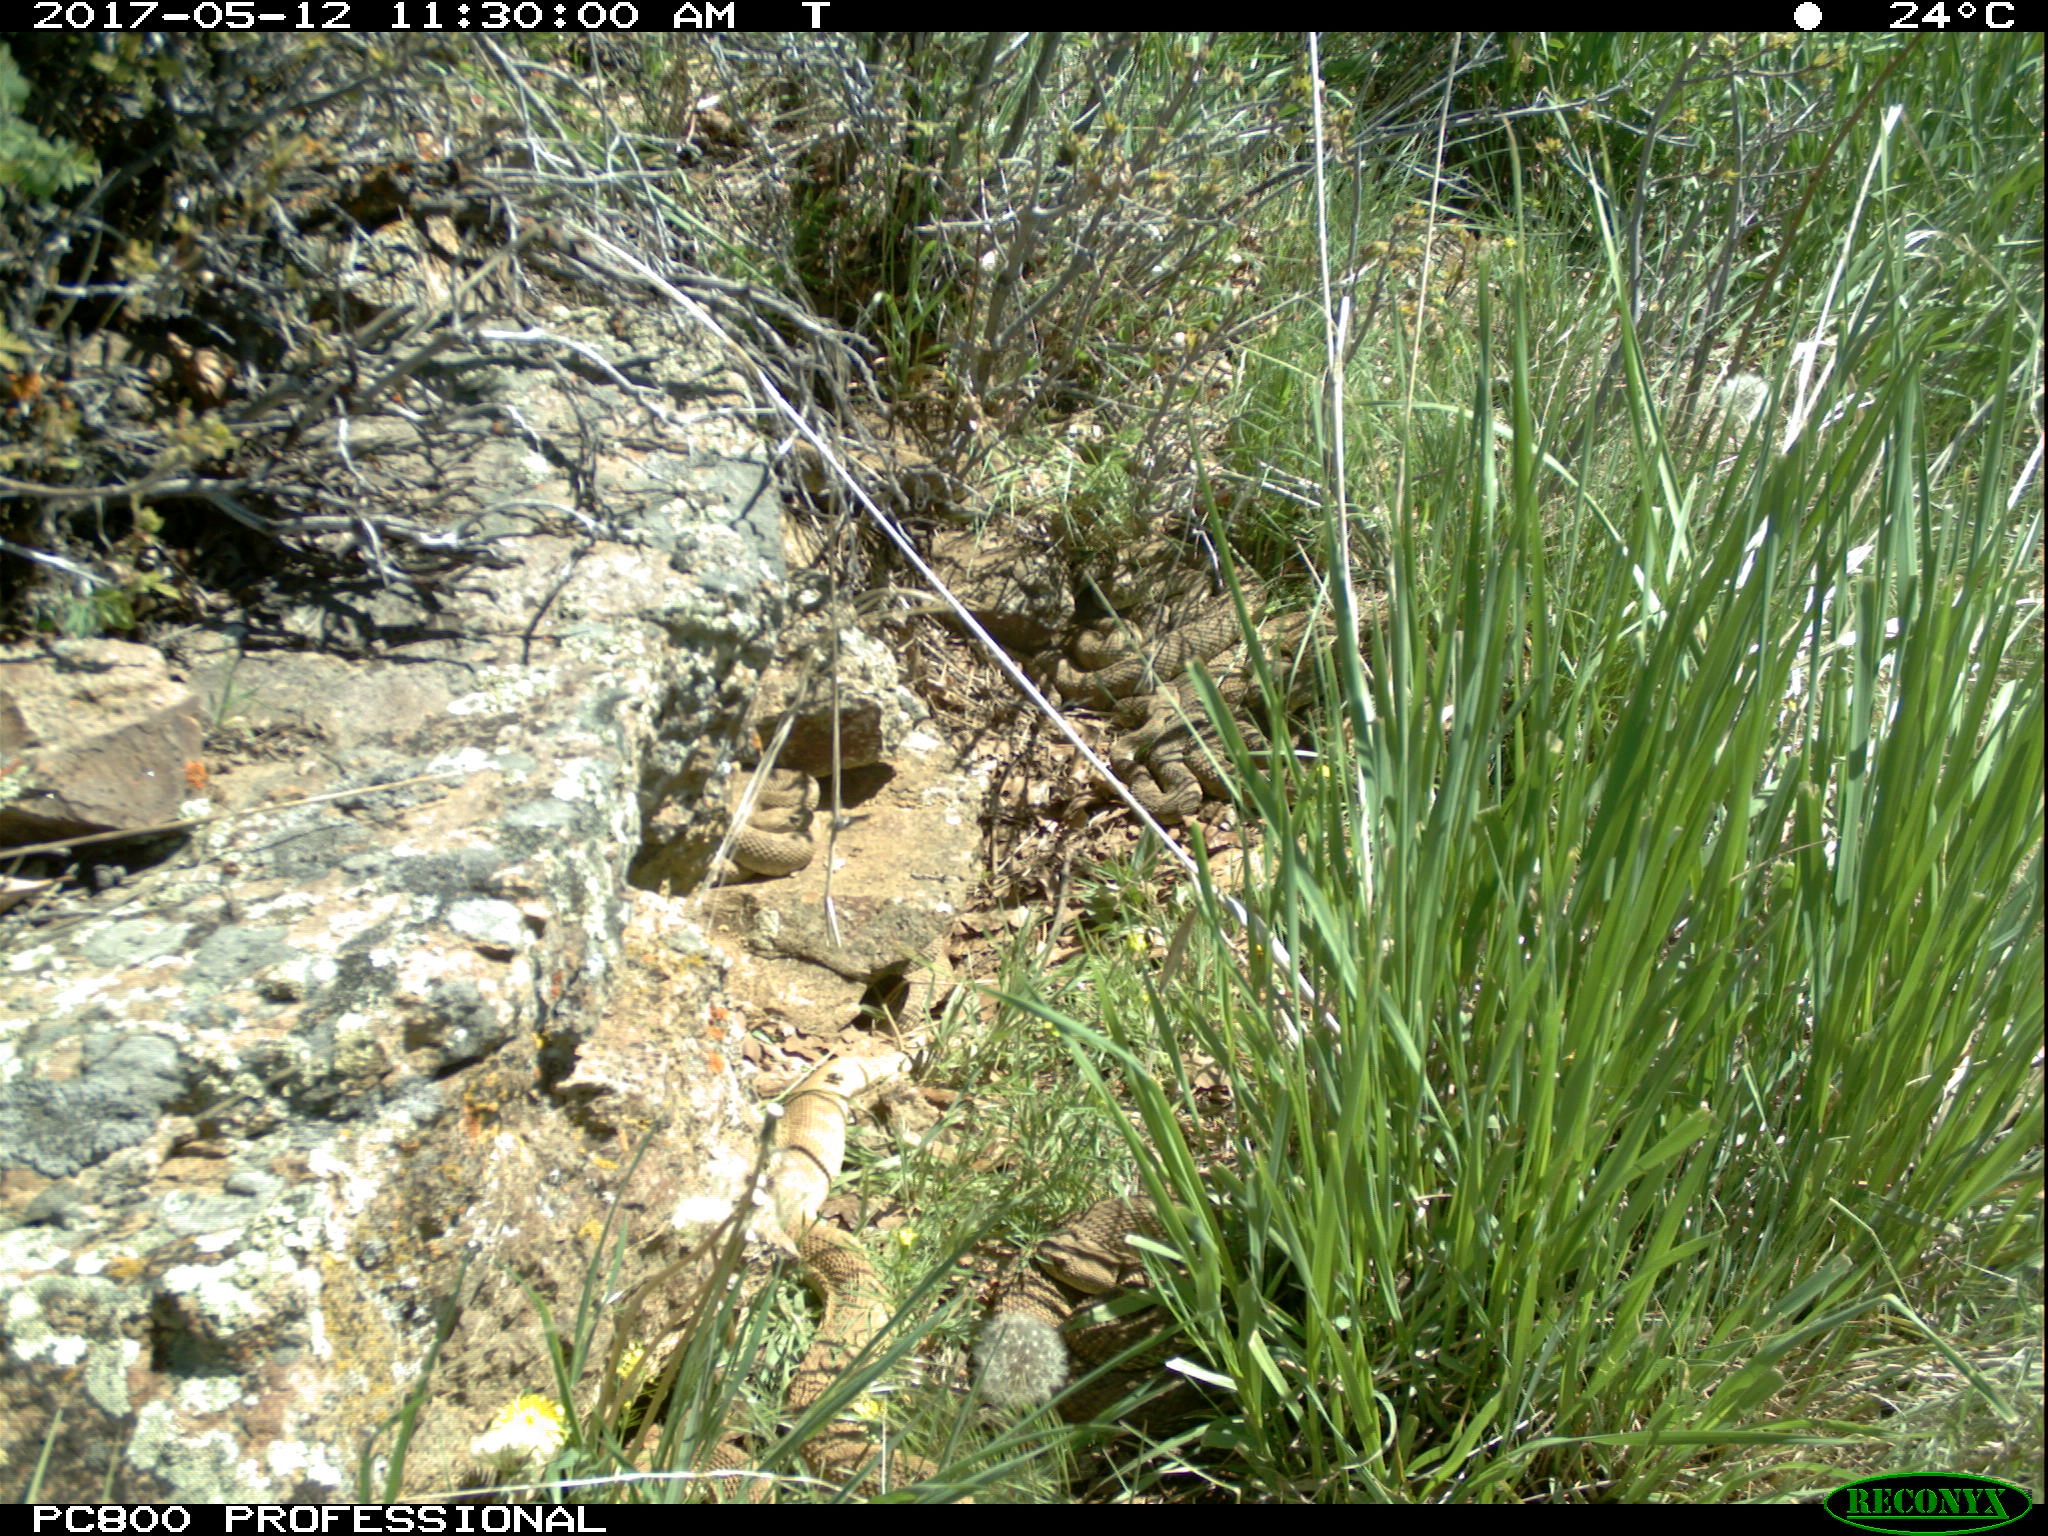snake: (768, 1050, 935, 1494), (1077, 657, 1247, 815), (1111, 541, 1268, 650), (1030, 1191, 1185, 1296), (708, 765, 821, 881), (1069, 615, 1198, 691)
